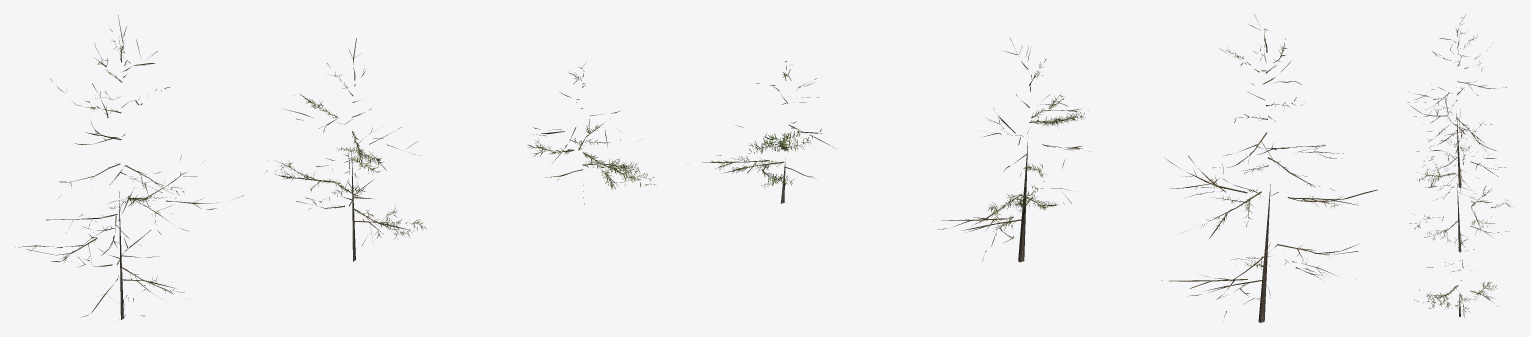
The model's file is fir-sapling-lod2.glb.
3 views of the same model, side by side, from view 1: azimuth 30°, elevation 25°; view 2: azimuth 150°, elevation 25°; view 3: azimuth 270°, elevation 25° (orthographic). The views are drawn at different scales.
Visible parts, largest first — view 1: fir_sapling_a, fir_sapling_b, fir_sapling_c; view 2: fir_sapling_a, fir_sapling_b, fir_sapling_c; view 3: fir_sapling_a, fir_sapling_b, fir_sapling_c.
Boxes of the visible parts, x1,y1,x2,y2 form: fir_sapling_a: (15, 15, 243, 319); fir_sapling_b: (264, 38, 426, 261); fir_sapling_c: (528, 63, 656, 204); fir_sapling_a: (1161, 14, 1377, 322); fir_sapling_b: (933, 37, 1090, 262); fir_sapling_c: (702, 61, 835, 203); fir_sapling_a: (1407, 14, 1506, 190); fir_sapling_b: (1409, 127, 1511, 252); fir_sapling_c: (1414, 235, 1498, 317).
Size of the model in its own units: 2.67 by 1.25 by 0.7195.
Materials: 2 (2 with a texture image).
